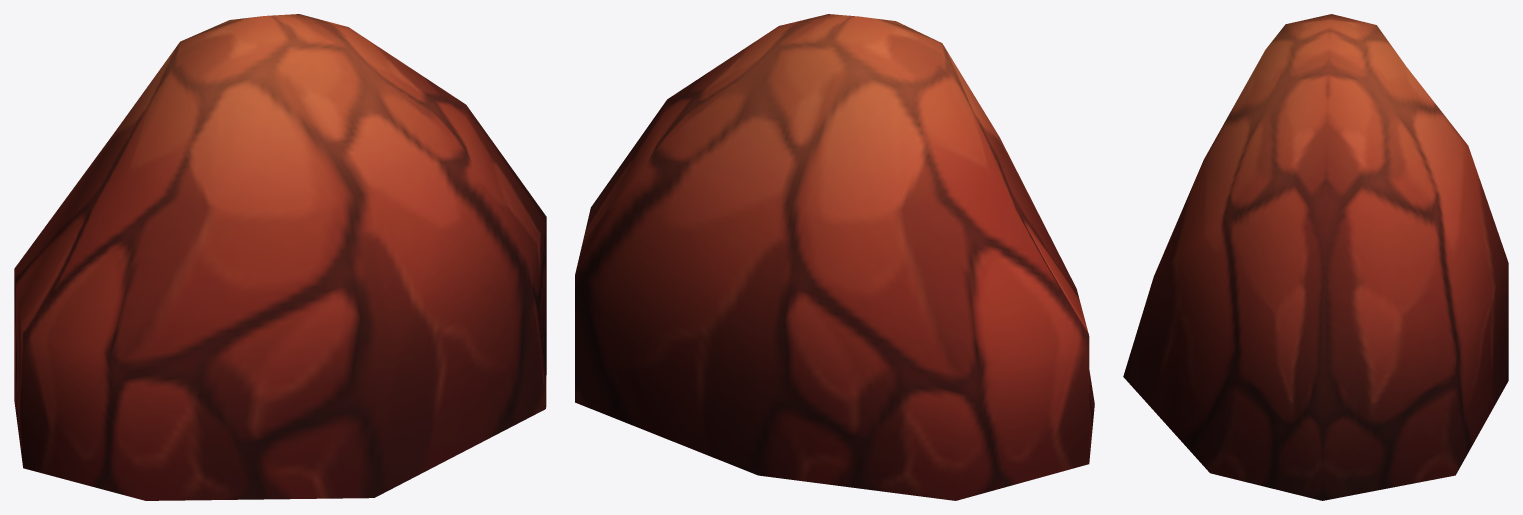
The model's file is Small_Rock_01.FBX.
3 renders of one model, left to right at view 1: azimuth 30°, elevation 25°; view 2: azimuth 150°, elevation 25°; view 3: azimuth 270°, elevation 25°, orthographic. The views are drawn at different scales.
Parts seen in each view (by area): view 1: Small_Rock_01; view 2: Small_Rock_01; view 3: Small_Rock_01.
Part boxes in pixels (x1,y1,x2,y2): Small_Rock_01: (14,14,546,500); Small_Rock_01: (575,14,1094,500); Small_Rock_01: (1123,14,1508,500).
Size of the model in its own units: 57.92 by 42.52 by 41.73.
